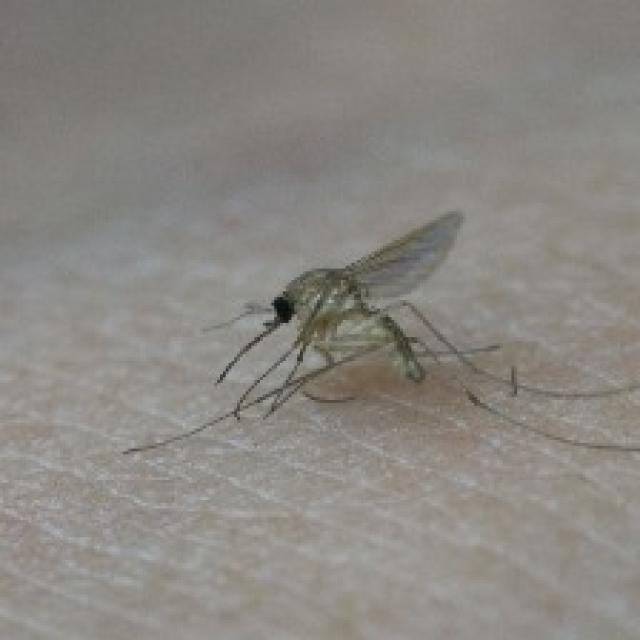culex: (108, 182, 618, 506)
